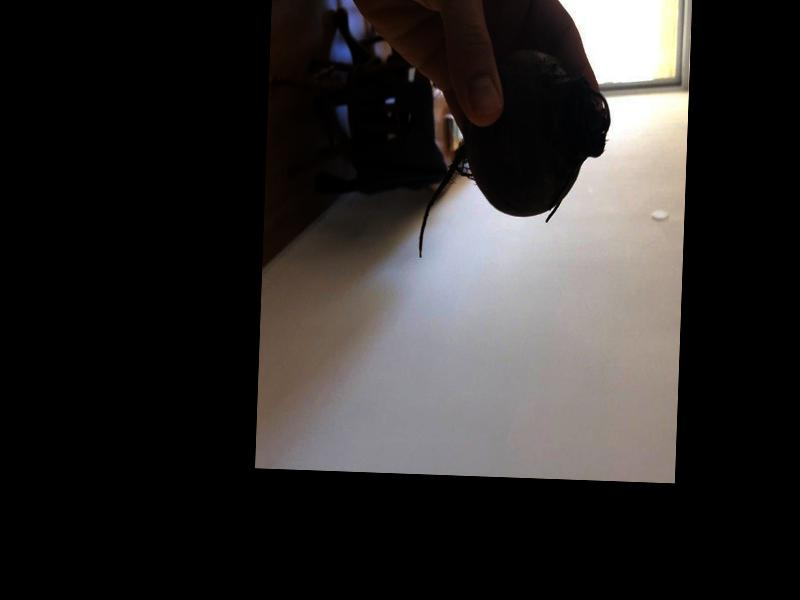Beet: (419, 46, 613, 265)
